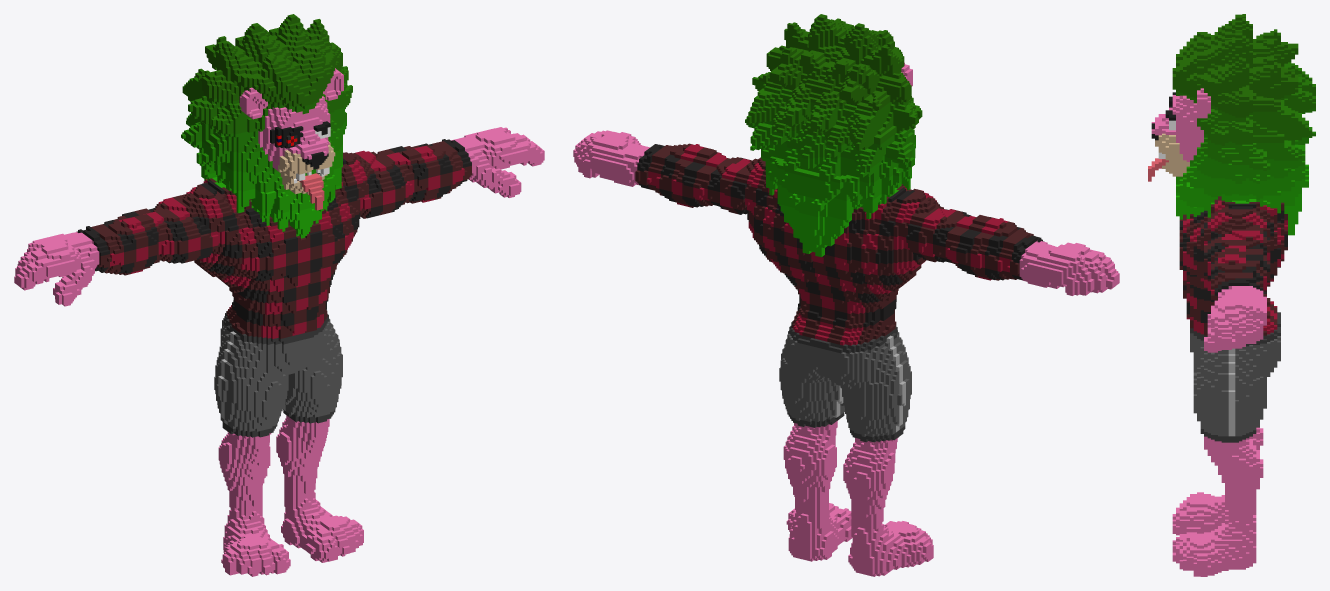
Rendered from 656-aBDDGQmG.fbx.
3 views of the same model, side by side, from view 1: azimuth 30°, elevation 25°; view 2: azimuth 150°, elevation 25°; view 3: azimuth 270°, elevation 25° (orthographic). The views are drawn at different scales.
Parts seen in each view (by area): view 1: tongue_out; view 2: tongue_out; view 3: tongue_out.
Boxes of the visible parts, x1,y1,x2,y2 form: tongue_out: (14,14,544,576); tongue_out: (573,14,1119,576); tongue_out: (1148,14,1315,576).
Size of the model in its own units: 17.2 by 16.5 by 4.8.
Materials: 5 (5 with a texture image).
